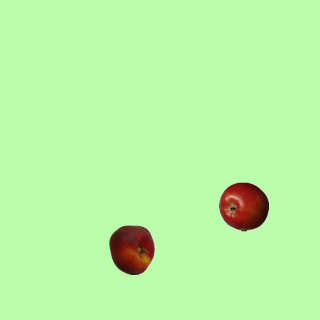Apple Braeburn: (218, 181, 268, 231)
Nectarine Flat: (106, 224, 156, 274)
